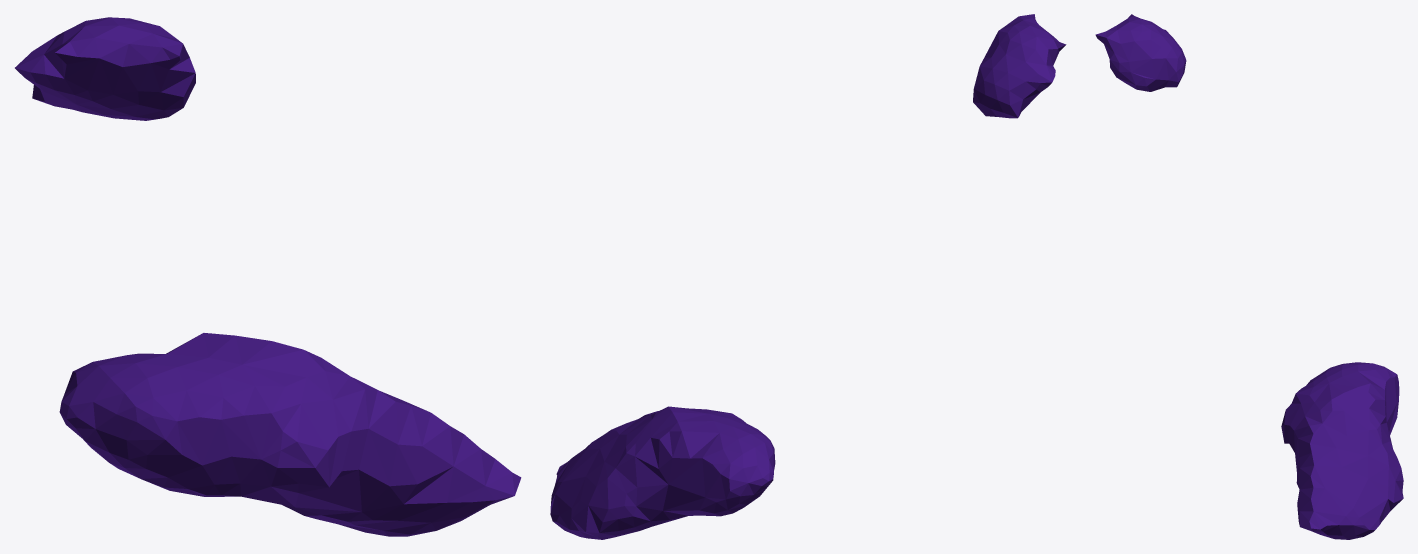
Rendered from Model_325_RH__Zona_incerta_(ZI).obj.
The picture shows the model from 3 angles, left to right: view 1: azimuth 30°, elevation 25°; view 2: azimuth 150°, elevation 25°; view 3: azimuth 270°, elevation 25°; orthographic projection. The views are drawn at different scales.
Bounding box in the file's own units: 2.16 × 2.47 × 1.76.
